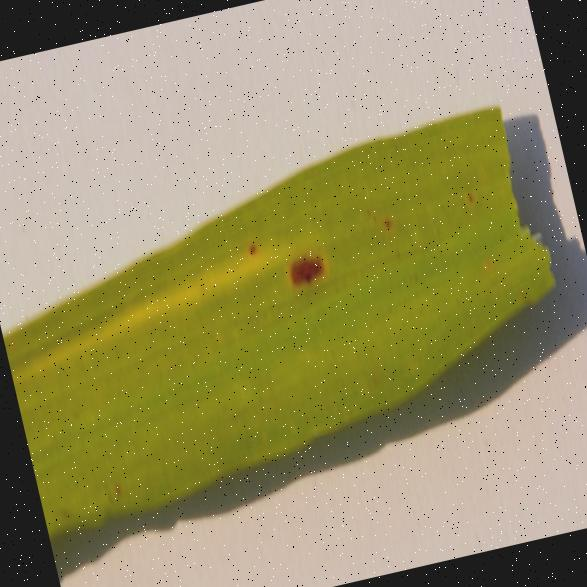Brown_Spot: (269, 233, 337, 292)
